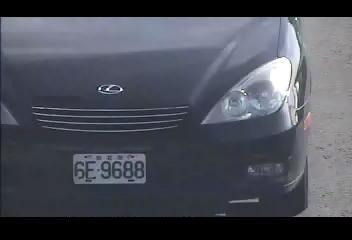plate: (72, 152, 146, 185)
